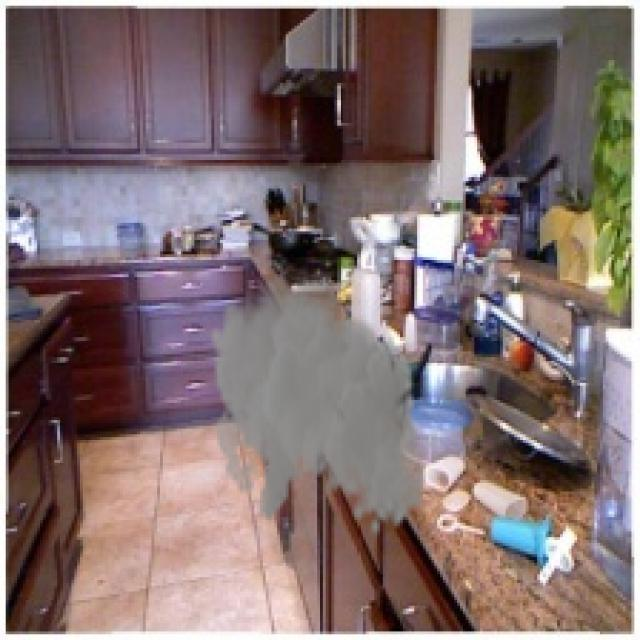Smoke: (208, 260, 426, 537)
